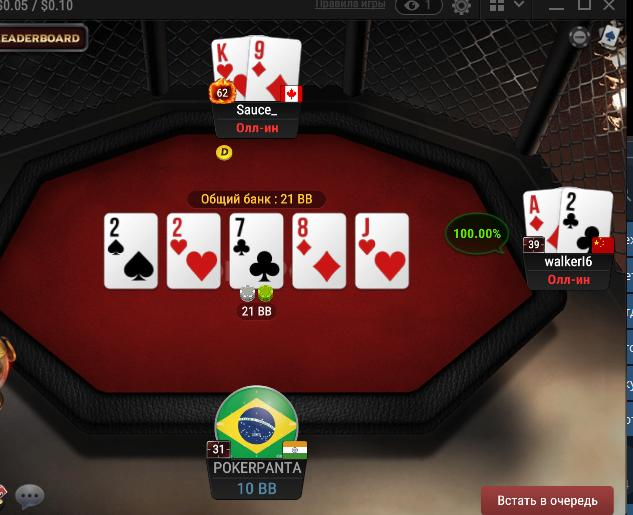2c: (559, 187, 614, 252)
2h: (168, 215, 221, 288)
2s: (104, 214, 157, 287)
7c: (231, 214, 282, 288)
8d: (292, 214, 346, 288)
9d: (249, 36, 301, 103)
Ad: (521, 189, 561, 249)
Jh: (356, 213, 409, 289)
Kh: (209, 37, 249, 104)
